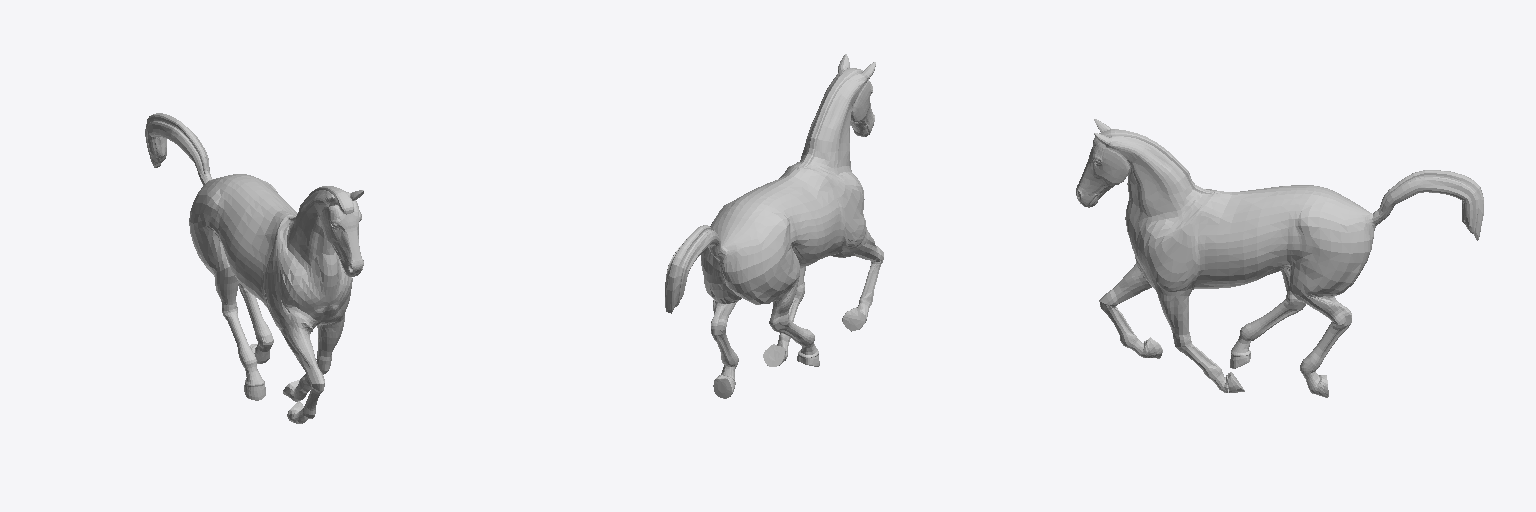
File: horse_obj_5.obj
3 renders of one model, left to right at view 1: azimuth 30°, elevation 25°; view 2: azimuth 150°, elevation 25°; view 3: azimuth 270°, elevation 25°, orthographic.
Size of the model in its own units: 0.2421 by 0.7779 by 1.1.